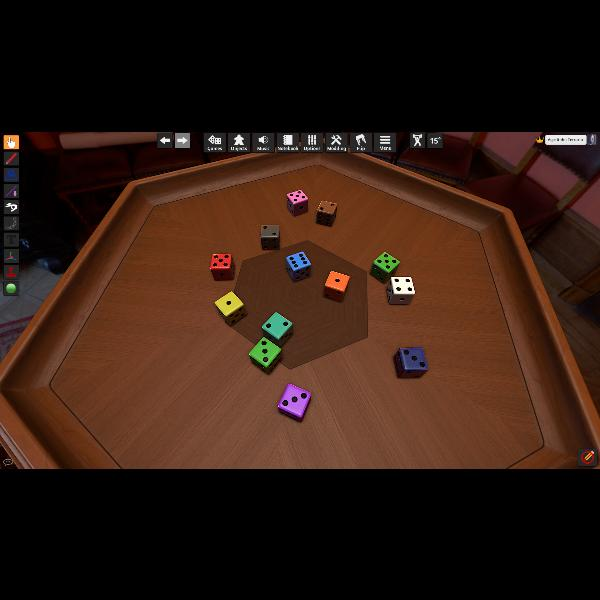d6: (277, 383, 311, 421), (248, 336, 282, 374), (262, 311, 292, 347), (394, 346, 426, 378), (214, 290, 244, 324), (386, 276, 416, 306), (371, 252, 398, 284), (324, 270, 350, 302), (285, 251, 311, 282), (210, 252, 234, 280), (286, 189, 308, 216), (315, 199, 337, 226), (260, 224, 280, 250)
